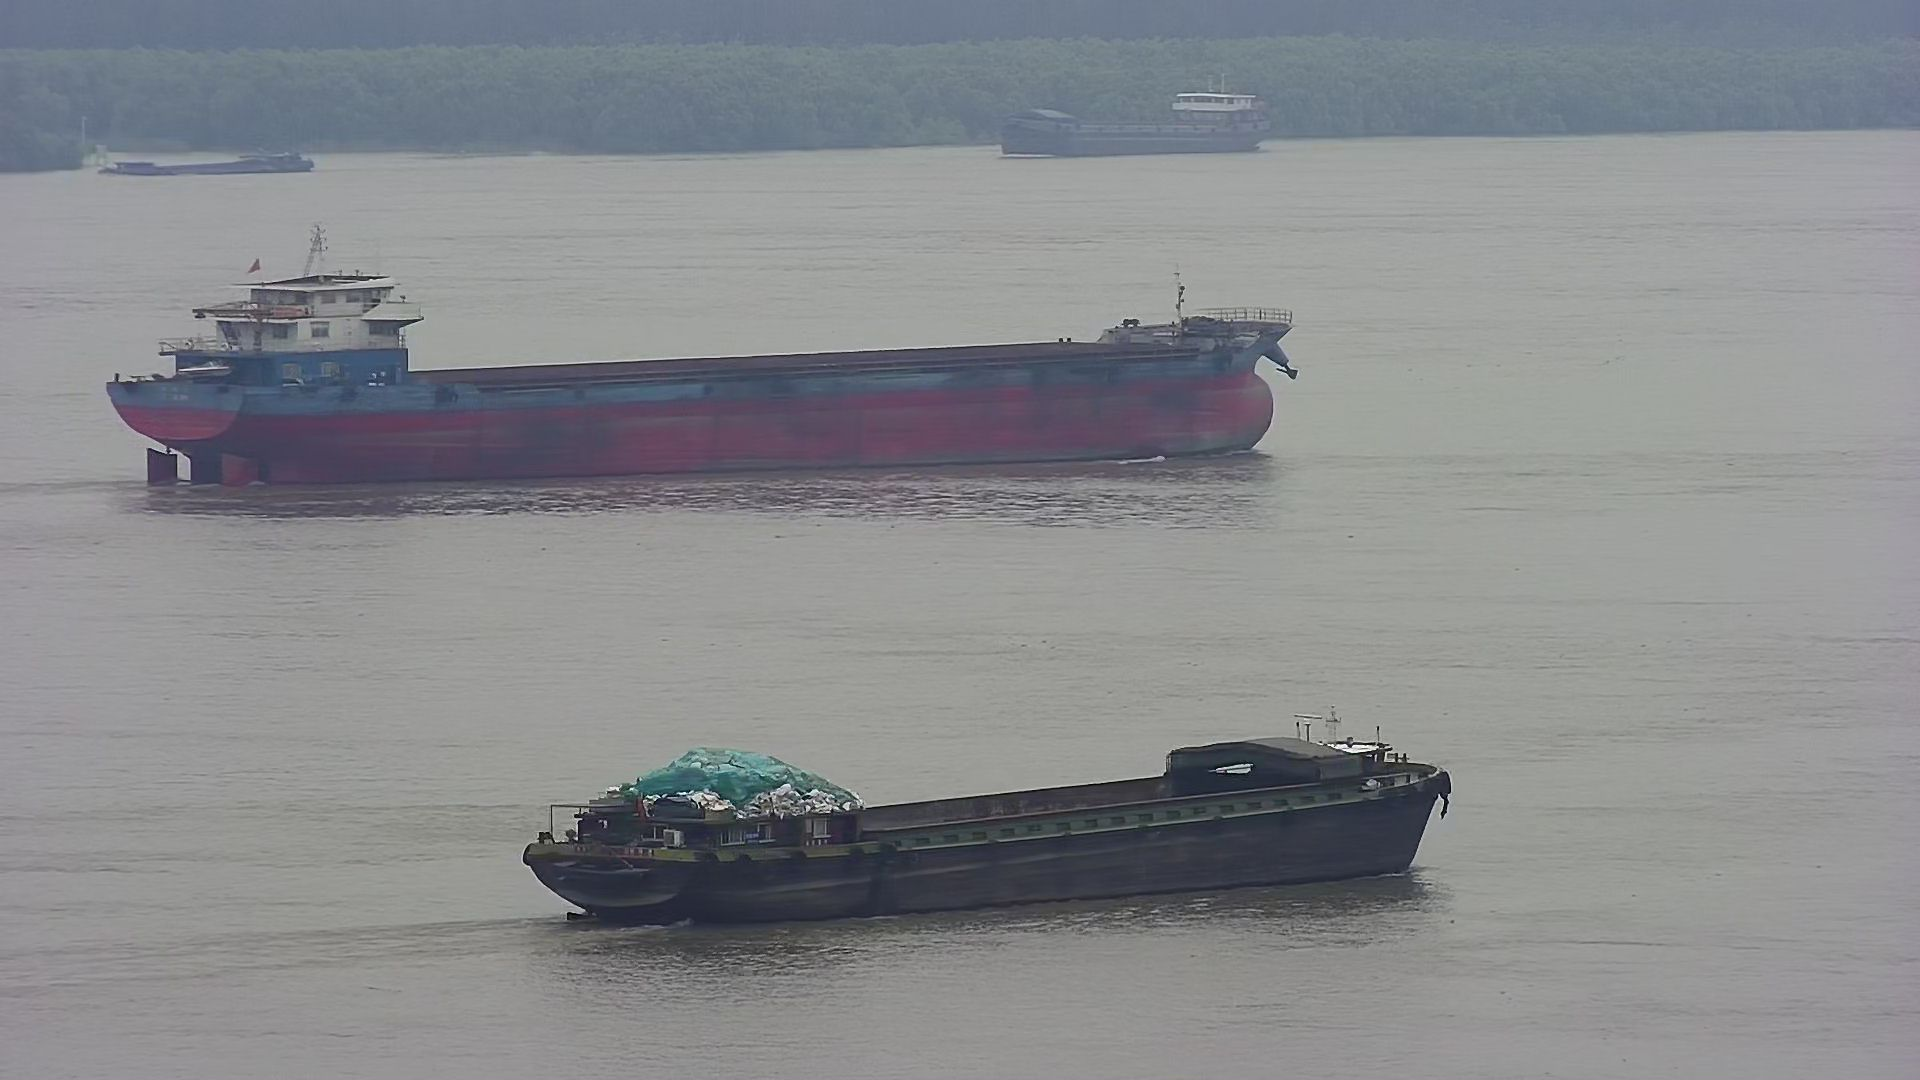boat: (88, 141, 336, 191)
ship: (102, 218, 1323, 539), (481, 691, 1495, 939), (984, 65, 1291, 173)
